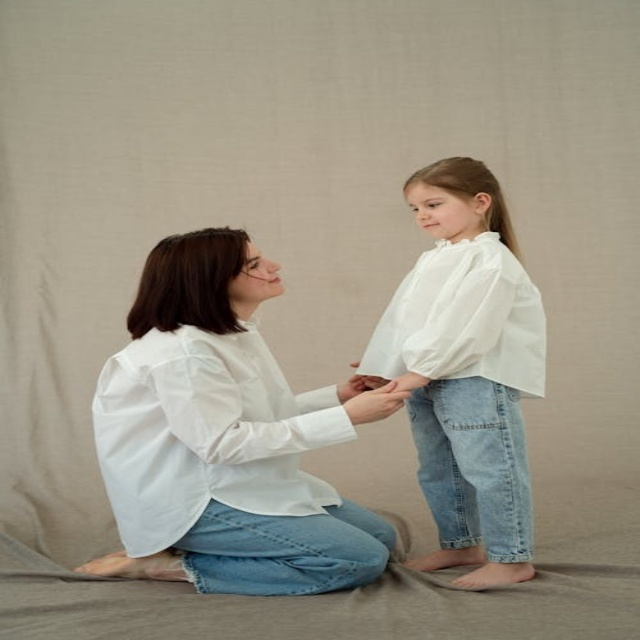Sin_gafas: (404, 193, 449, 214), (240, 257, 282, 279)
Sin_guantes: (357, 375, 424, 427)
Sin_mascara: (257, 271, 287, 294), (419, 218, 448, 237)
